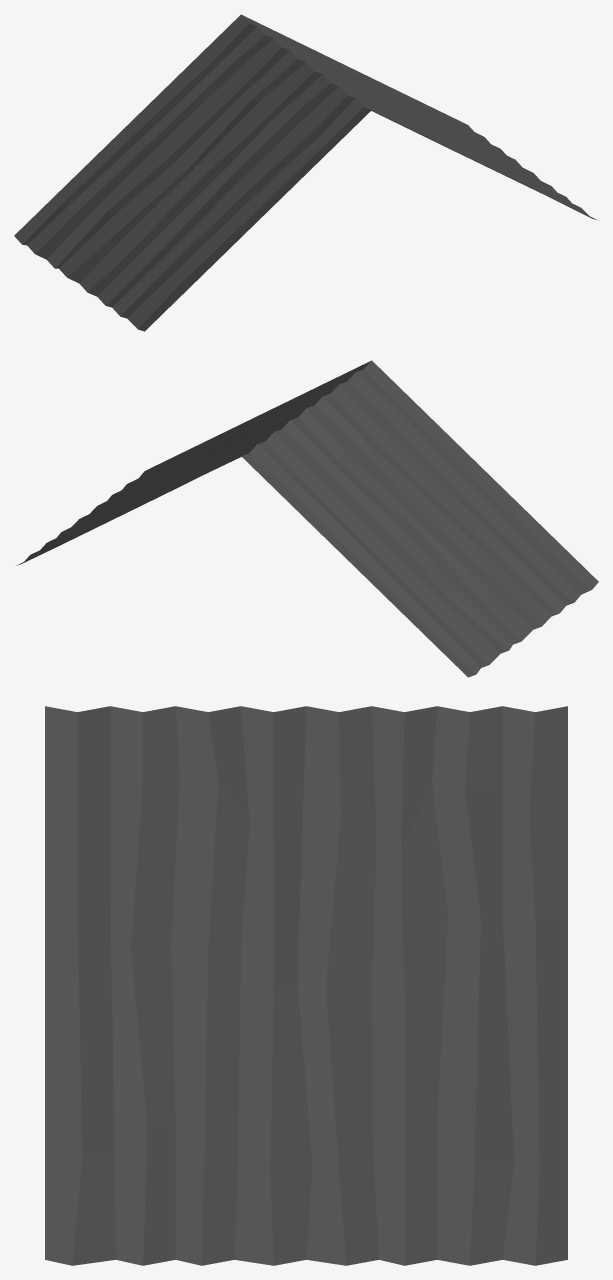
The model's file is builder_14.FBX.
3 renders of one model, top to bottom at view 1: azimuth 30°, elevation 25°; view 2: azimuth 150°, elevation 25°; view 3: azimuth 270°, elevation 25°, orthographic. The views are drawn at different scales.
Parts seen in each view (by area): view 1: builder_14; view 2: builder_14; view 3: builder_14.
Boxes of the visible parts, x1=… form: builder_14: x1=14, y1=14, x2=597, y2=331; builder_14: x1=16, y1=360, x2=598, y2=677; builder_14: x1=45, y1=706, x2=567, y2=1265.
Size of the model in its own units: 257 by 91.57 by 128.
